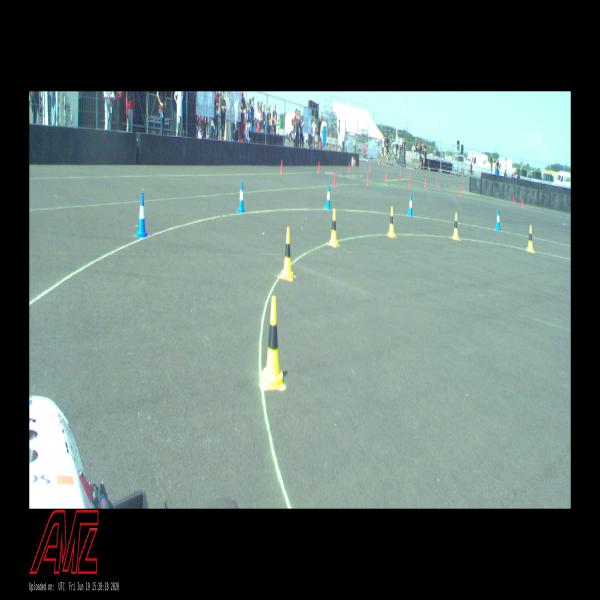blue_cone: (135, 192, 148, 238), (236, 182, 246, 213), (324, 184, 332, 209), (408, 194, 414, 216), (495, 209, 501, 230)
unknown_cone: (280, 160, 283, 173), (366, 173, 369, 186), (348, 162, 351, 173), (384, 171, 387, 182), (407, 179, 410, 189), (520, 198, 523, 208), (334, 172, 336, 186), (318, 160, 320, 173), (424, 177, 426, 188), (458, 186, 460, 197), (399, 172, 401, 182), (461, 184, 463, 194), (513, 194, 515, 204), (435, 178, 437, 186), (409, 171, 410, 180), (369, 164, 370, 172)
yellow_cone: (260, 296, 284, 389), (280, 227, 294, 279), (329, 208, 338, 246), (387, 206, 395, 236), (526, 225, 534, 252), (452, 213, 459, 239)
